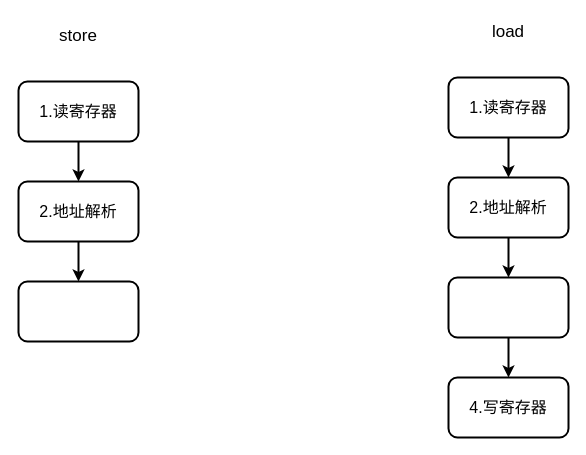
Image size: 586x455. Some labels were removed from this diagram. The shapes that lost their labels are listed below. From the top down, each one's box as (x1, y1, x2, y2) in pixels, then its label:
(17, 280, 139, 342): 3.写回内存
(447, 276, 569, 338): 3.读内存
